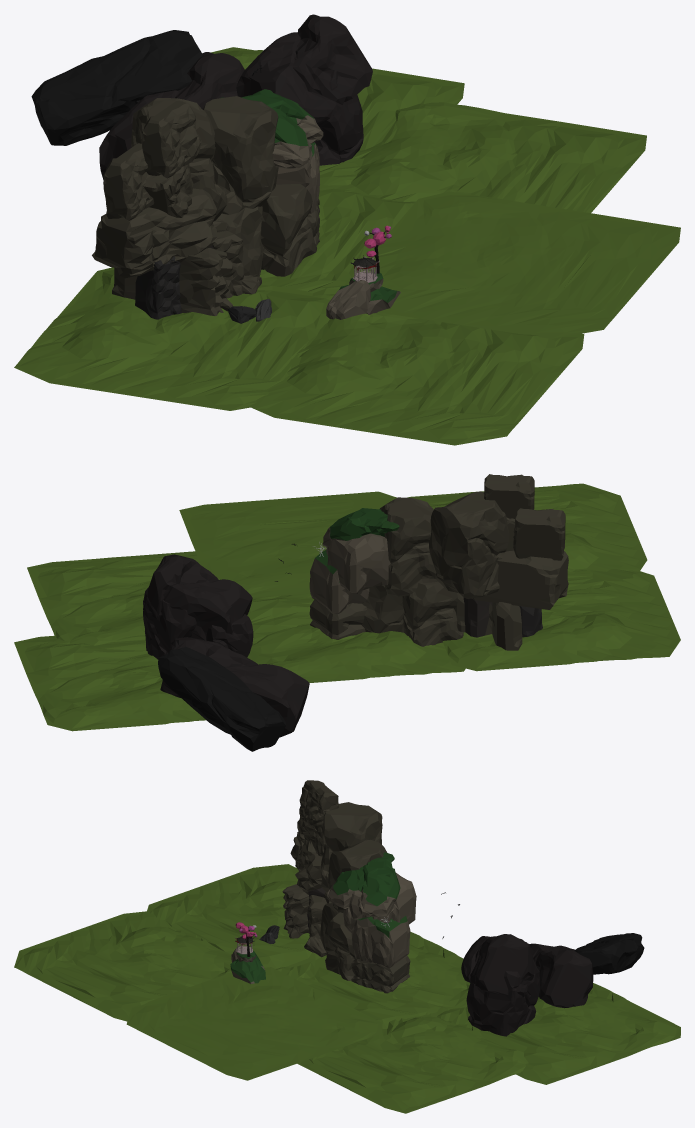
The model's file is Island_Arbor_coll.FBX.
3 renders of one model, top to bottom at view 1: azimuth 30°, elevation 25°; view 2: azimuth 150°, elevation 25°; view 3: azimuth 270°, elevation 25°, orthographic. The views are drawn at different scales.
Visible parts, largest first — view 1: Group64709, Group64710, Group64711, Group64756, Group64754, Group64733, Group62239, Group64719, Group64723, Group64755, Group64342, Group64734 (+13 smaller); view 2: Group64711, Group64709, Group64755, Group62239, Group64756, Group64710, Group64720, Group64754, Group64733, Group64719, Group64734, Group64723 (+13 smaller); view 3: Group64709, Group64710, Group64756, Group64755, Group64711, Group62239, Group64733, Group64725, Group64734, Group64720, Group64727, Group64754 (+13 smaller).
Part boxes in pixels (x1=…): Group64709: x1=343, y1=191, x2=680, y2=338; Group64710: x1=249, y1=312, x2=584, y2=445; Group64711: x1=14, y1=267, x2=330, y2=410; Group64756: x1=319, y1=102, x2=646, y2=212; Group64754: x1=31, y1=30, x2=202, y2=145; Group64733: x1=236, y1=14, x2=372, y2=125; Group62239: x1=259, y1=188, x2=415, y2=299; Group64719: x1=203, y1=96, x2=278, y2=214; Group64723: x1=92, y1=188, x2=217, y2=278; Group64755: x1=211, y1=47, x2=464, y2=185; Group64342: x1=261, y1=184, x2=316, y2=276; Group64734: x1=99, y1=52, x2=244, y2=180; Group64711: x1=442, y1=569, x2=680, y2=671; Group64709: x1=179, y1=491, x2=396, y2=597; Group64755: x1=14, y1=635, x2=205, y2=731; Group62239: x1=247, y1=593, x2=465, y2=682; Group64756: x1=27, y1=551, x2=257, y2=645; Group64710: x1=407, y1=483, x2=647, y2=571; Group64720: x1=429, y1=491, x2=509, y2=598; Group64754: x1=158, y1=646, x2=285, y2=751; Group64733: x1=143, y1=554, x2=252, y2=640; Group64719: x1=380, y1=497, x2=437, y2=596; Group64734: x1=160, y1=637, x2=309, y2=737; Group64723: x1=472, y1=550, x2=568, y2=609; Group64709: x1=126, y1=967, x2=382, y2=1080; Group64710: x1=14, y1=911, x2=231, y2=1021; Group64756: x1=297, y1=1005, x2=528, y2=1113; Group64755: x1=437, y1=983, x2=680, y2=1084; Group64711: x1=147, y1=864, x2=326, y2=968; Group62239: x1=276, y1=931, x2=470, y2=1028; Group64733: x1=461, y1=934, x2=534, y2=996; Group64725: x1=466, y1=960, x2=540, y2=1036; Group64734: x1=530, y1=943, x2=593, y2=1008; Group64720: x1=320, y1=802, x2=382, y2=892; Group64727: x1=351, y1=916, x2=410, y2=967; Group64754: x1=574, y1=933, x2=644, y2=974.
Bounding box in the file's own units: 77230 × 24319 × 87967.
